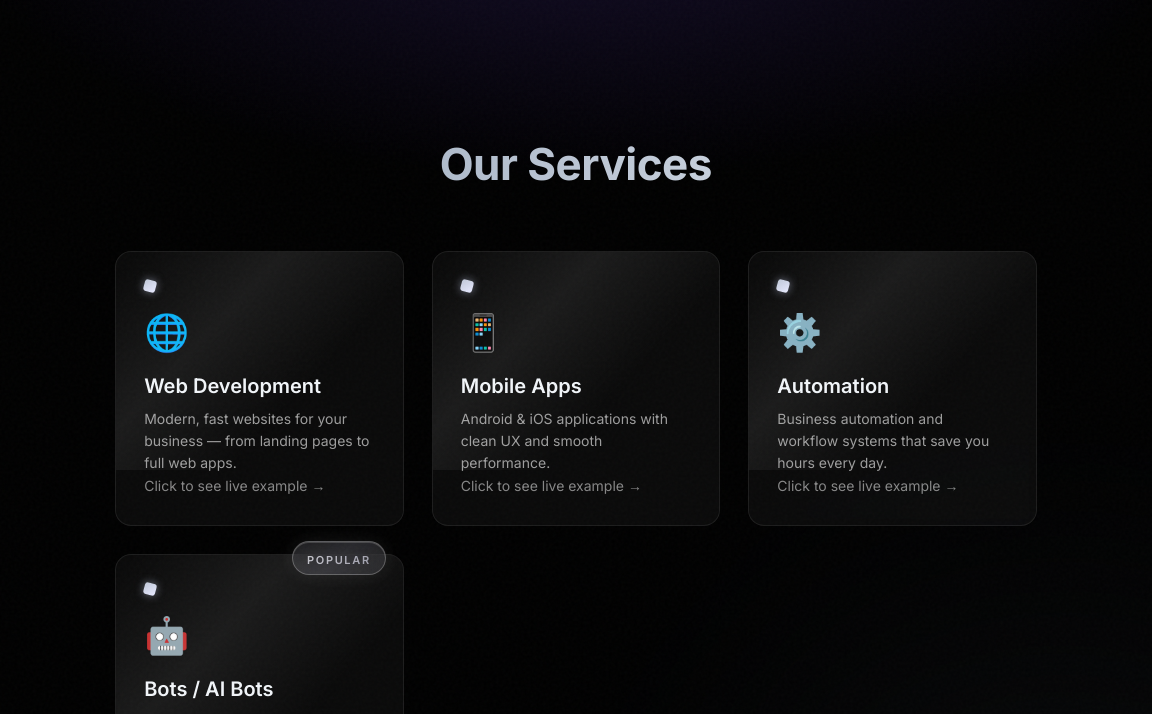
the modal a card opens › Web Development opens its own example
Click the element "Web Development". click: click(259, 388)
box: 115,250 -> 404,526
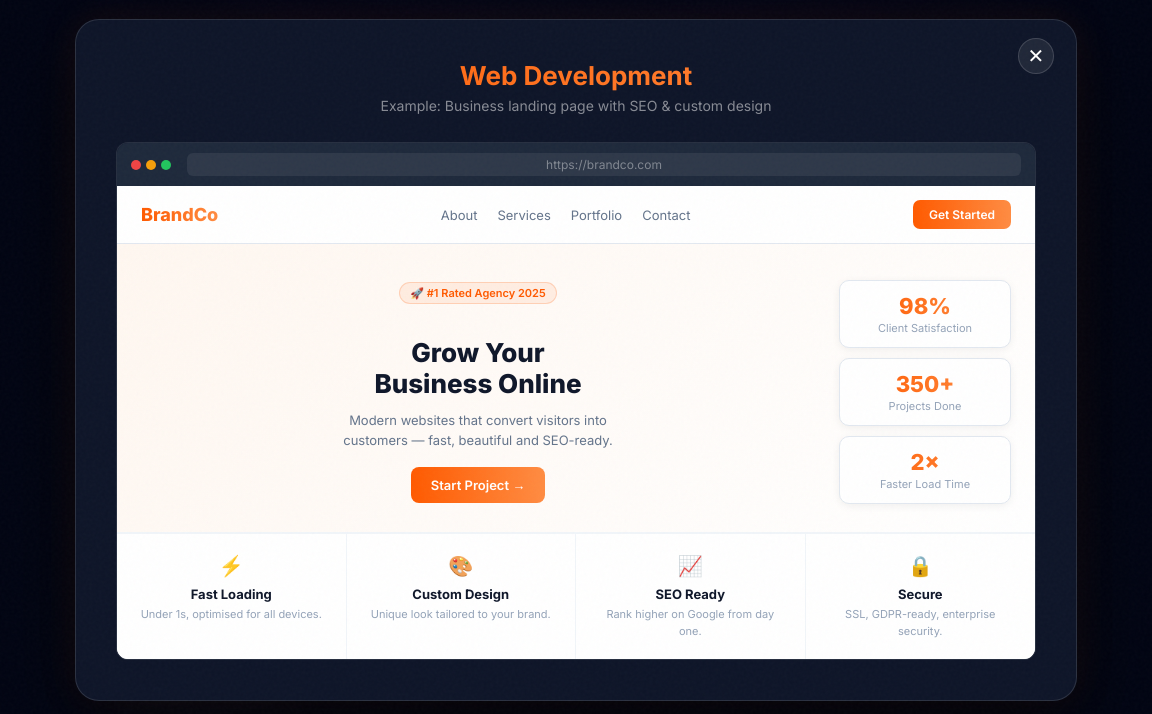
Expected: the element with class "modal-box" is shown
Expected: the text "Web Development" is shown, 116,60 -> 1036,91
Expected: the text "Example: Business landing page with SEO & custom design" is shown, 380,97 -> 771,114
